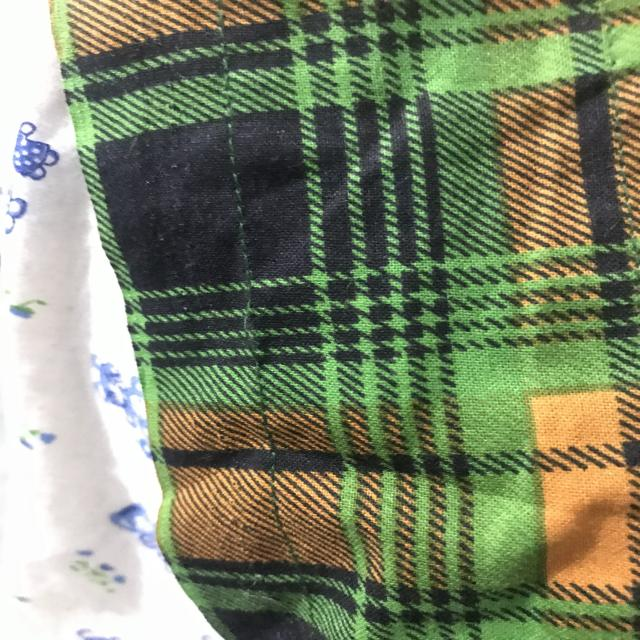good: (213, 138, 257, 248)
skip: (226, 284, 278, 370)
